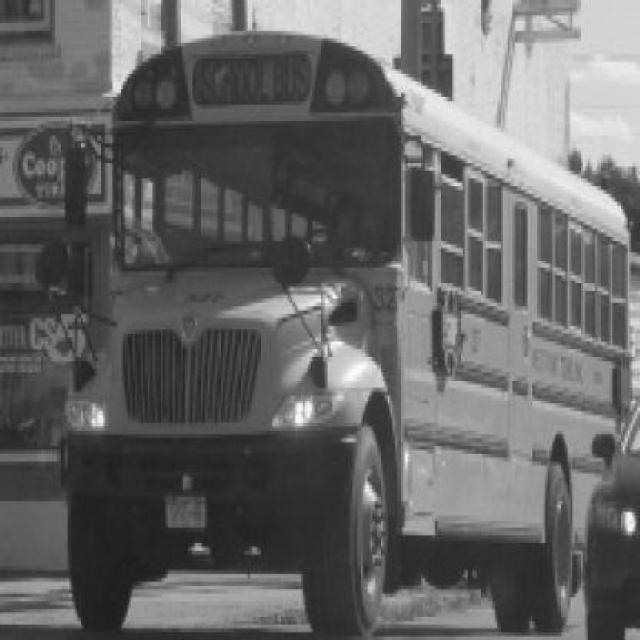Bus: (31, 32, 630, 640)
